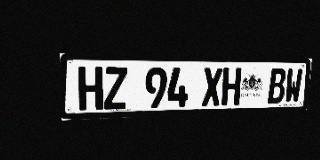4: (167, 67, 189, 107)
9: (145, 67, 167, 108)
B: (267, 68, 287, 104)
H: (78, 67, 103, 111), (221, 68, 242, 105)
W: (284, 68, 303, 103)
X: (202, 68, 223, 106)
Z: (104, 67, 127, 110)
